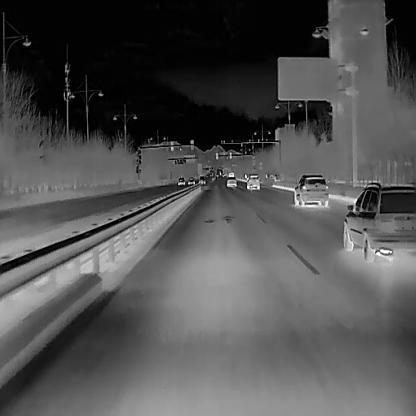car: (342, 177, 416, 262), (293, 171, 330, 207), (244, 172, 260, 191), (225, 174, 237, 187), (175, 175, 185, 185), (197, 175, 205, 185), (188, 176, 195, 185), (228, 170, 234, 177)
